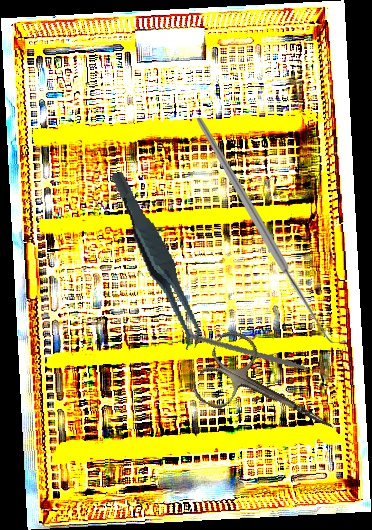Chopper: (184, 298, 327, 420)
Hook Surgical: (195, 118, 346, 343)
Iris Scissors: (188, 325, 352, 464)
Tissue Forceps: (109, 162, 205, 359)
